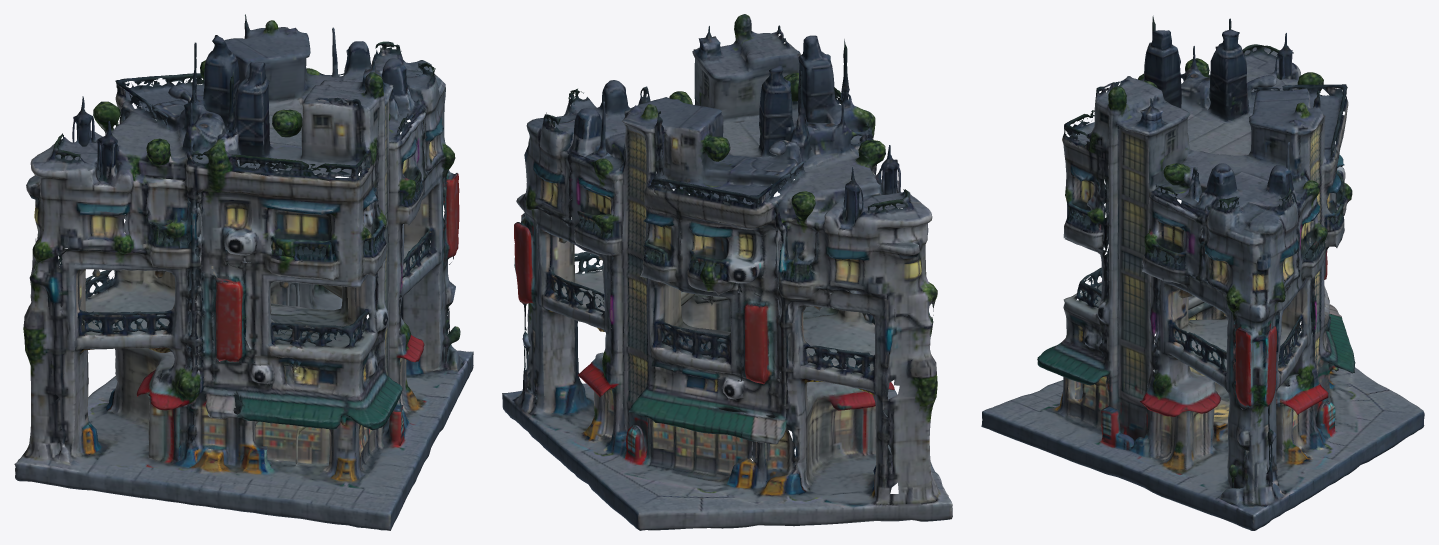
3 renders of one model, left to right at view 1: azimuth 30°, elevation 25°; view 2: azimuth 150°, elevation 25°; view 3: azimuth 270°, elevation 25°, orthographic. The views are drawn at different scales.
Visible parts, largest first — view 1: tripo_node_cf6cf0dc; view 2: tripo_node_cf6cf0dc; view 3: tripo_node_cf6cf0dc.
Part boxes in pixels (left/top/right/bottom): tripo_node_cf6cf0dc: left=14, top=14, right=473, bottom=530; tripo_node_cf6cf0dc: left=502, top=14, right=952, bottom=530; tripo_node_cf6cf0dc: left=981, top=15, right=1424, bottom=530.
Bounding box in the file's own units: 97.95 × 83.81 × 87.62.
Materials: 1 (1 with a texture image).
